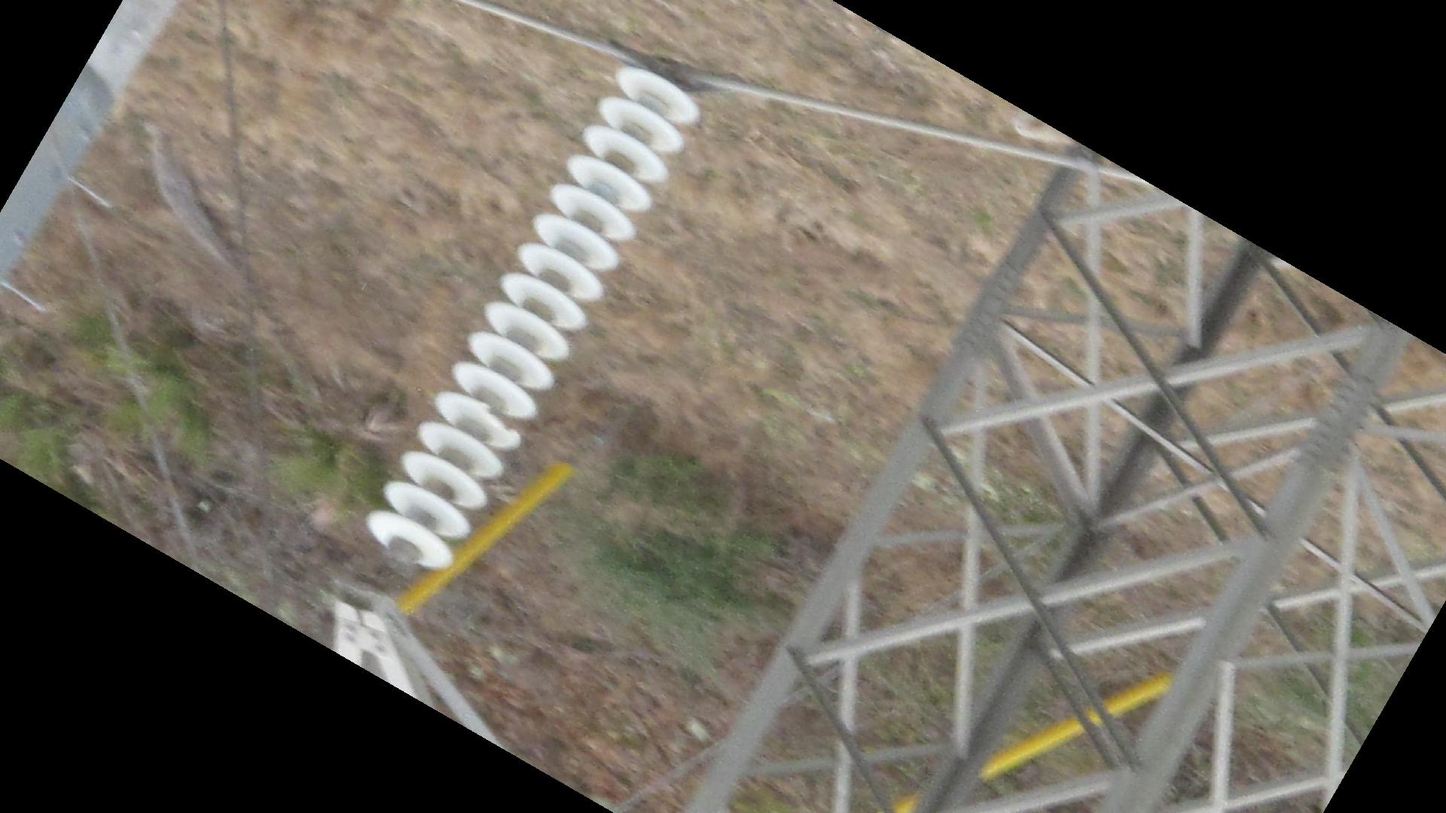insulator: (361, 59, 704, 577)
insulator_breakage: (475, 397, 520, 441)
